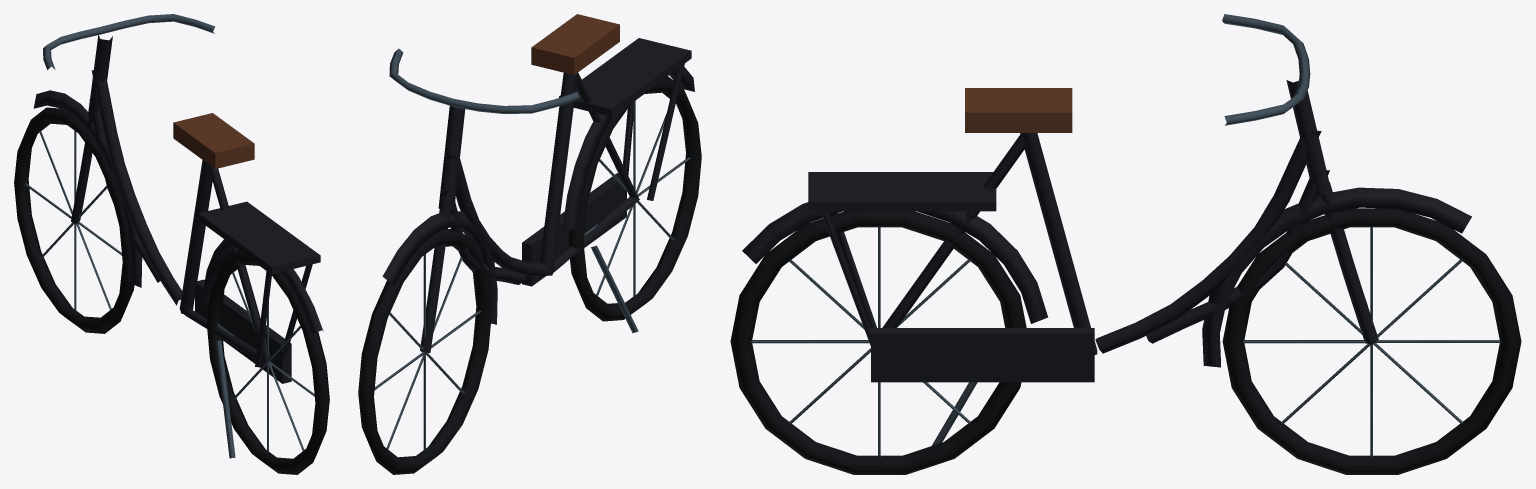
File: bike.glb
3 renders of one model, left to right at view 1: azimuth 30°, elevation 25°; view 2: azimuth 150°, elevation 25°; view 3: azimuth 270°, elevation 25°, orthographic. The views are drawn at different scales.
Parts seen in each view (by area): view 1: bike_mesh; view 2: bike_mesh; view 3: bike_mesh.
Part boxes in pixels (x1=…): bike_mesh: x1=14, y1=14, x2=329, y2=474; bike_mesh: x1=358, y1=14, x2=701, y2=474; bike_mesh: x1=730, y1=14, x2=1521, y2=474.
Bounding box in the file's own units: 0.5614 × 1.02 × 1.77.
